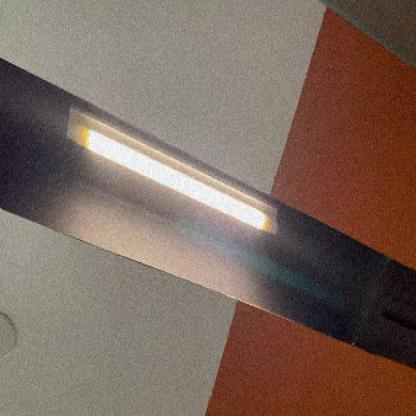light_on: (59, 87, 287, 254)
